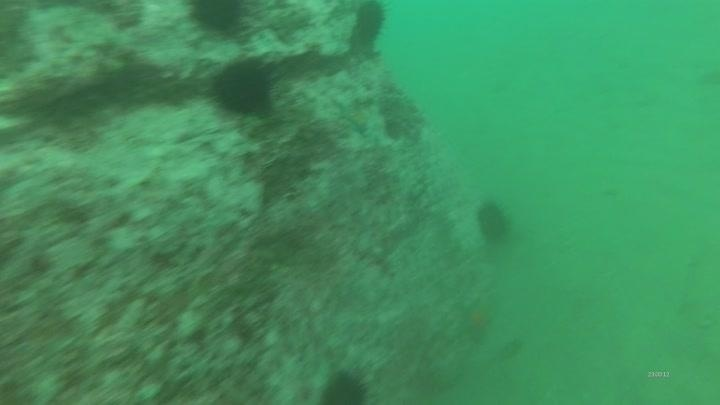echinus: (206, 54, 281, 120), (184, 1, 251, 38), (316, 366, 373, 404), (473, 198, 515, 247), (349, 1, 390, 50)
starfish: (455, 295, 499, 344), (333, 94, 380, 138)
